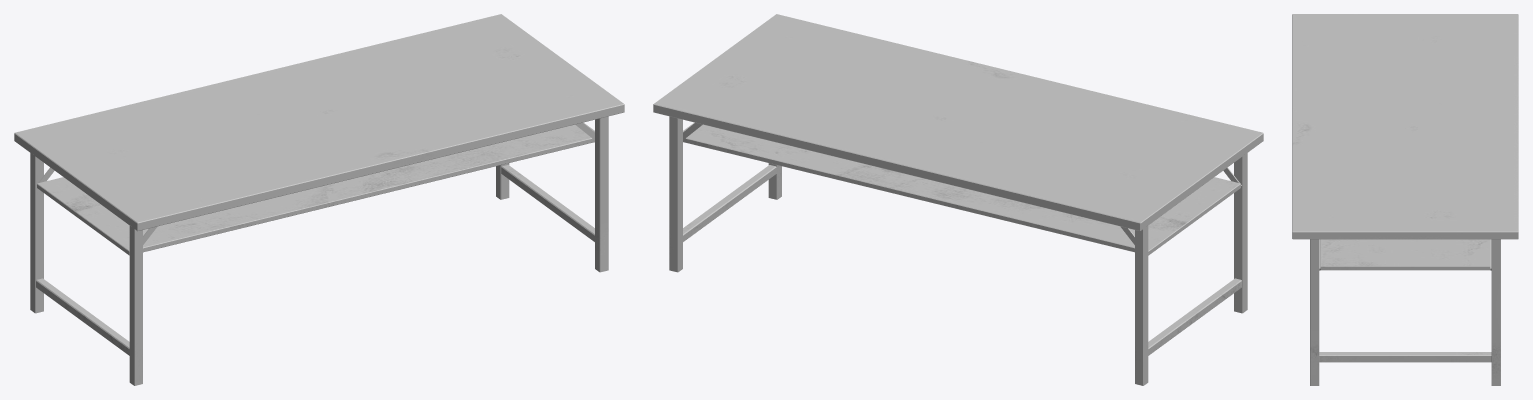
File: table_inox.glb
3 views of the same model, side by side, from view 1: azimuth 30°, elevation 25°; view 2: azimuth 150°, elevation 25°; view 3: azimuth 270°, elevation 25° (orthographic). The views are drawn at different scales.
Parts seen in each view (by area): view 1: SteelTable; view 2: SteelTable; view 3: SteelTable.
Part boxes in pixels (x1,y1,x2,y2): SteelTable: [14, 14, 624, 385]; SteelTable: [653, 14, 1263, 385]; SteelTable: [1292, 14, 1518, 385].
Size of the model in its own units: 2.37 by 0.7984 by 1.04.
1 material, 1 textured.
